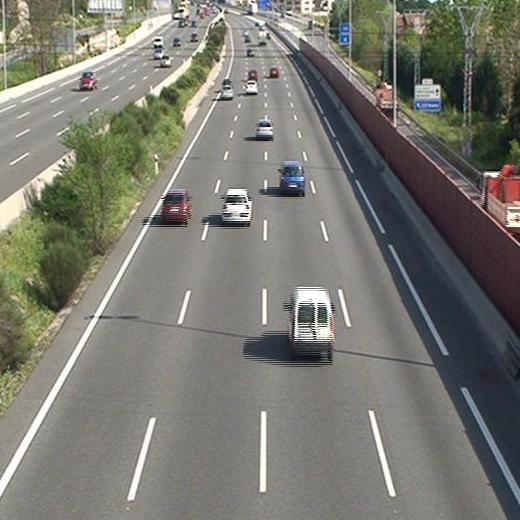car: (221, 190, 252, 221), (162, 190, 191, 221), (280, 163, 304, 192), (257, 119, 272, 137), (245, 80, 257, 94), (221, 86, 232, 98), (269, 65, 279, 77), (247, 70, 255, 77)
van: (290, 287, 334, 350)
